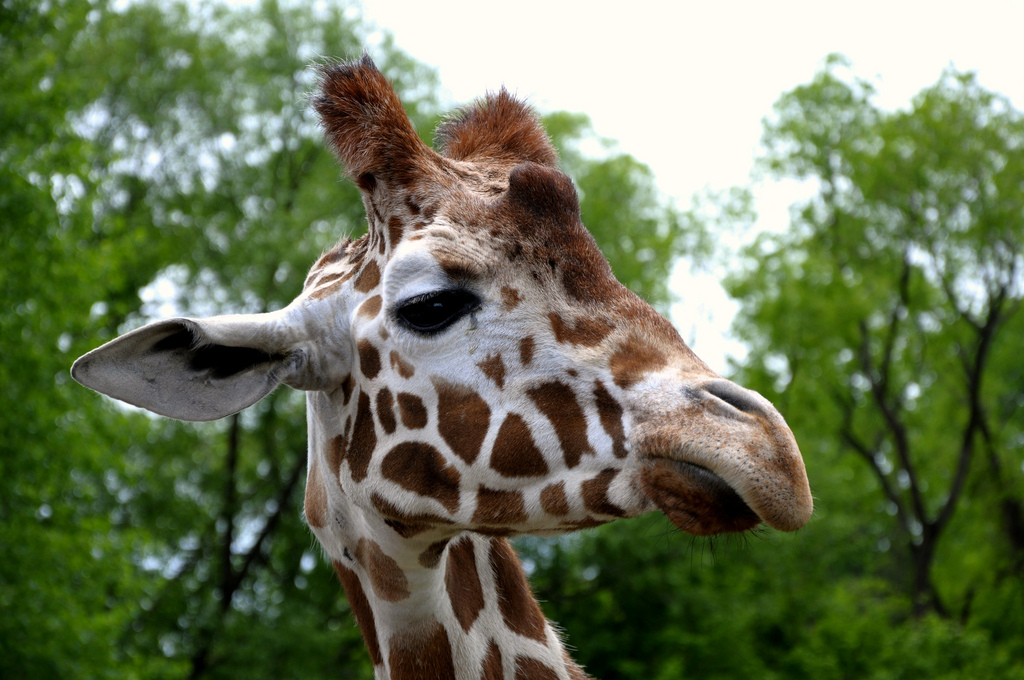giraffe: (47, 45, 847, 641)
